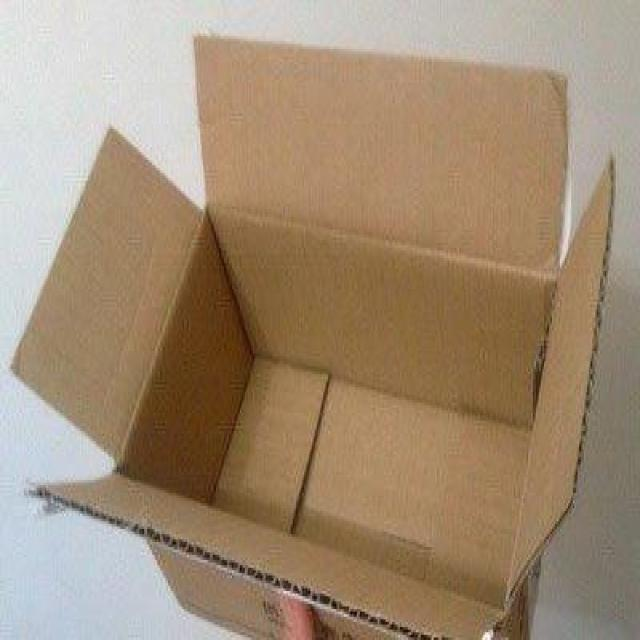-Recyclables - paper box-: (13, 37, 613, 640)
